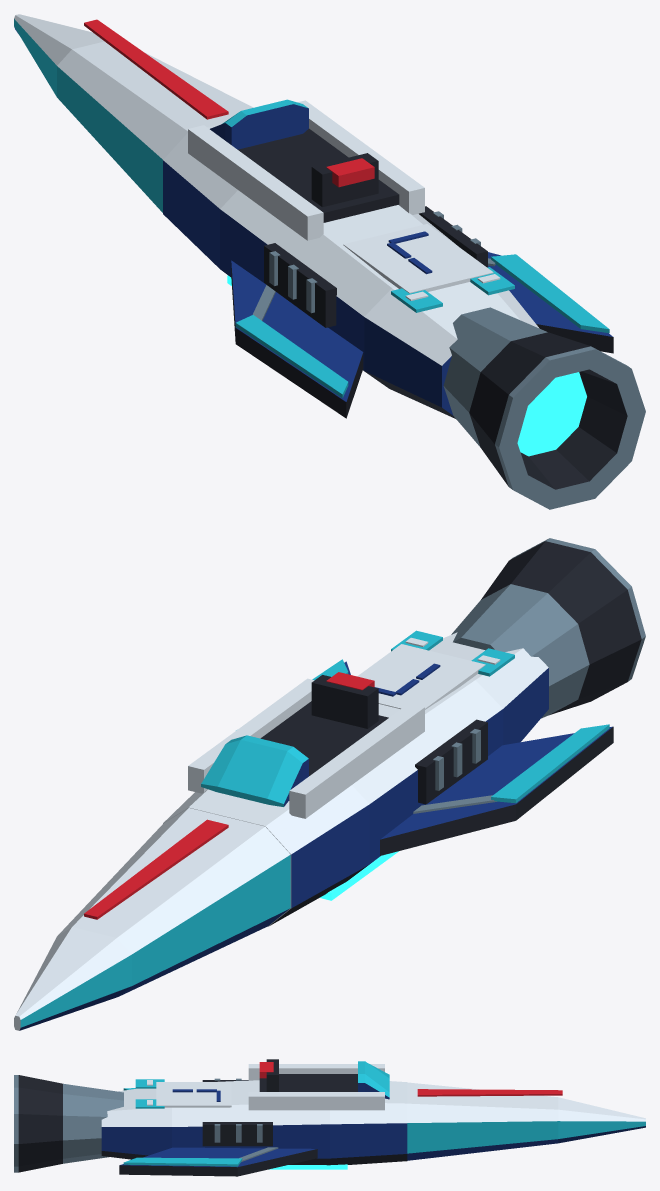
File: hull-kitsune-c0f37e6b.glb
The picture shows the model from 3 angles, top to bottom: view 1: azimuth 30°, elevation 25°; view 2: azimuth 150°, elevation 25°; view 3: azimuth 270°, elevation 25°; orthographic projection. The views are drawn at different scales.
Parts seen in each view (by area): view 1: hull-kitsune_body, engine_rear_single, nose_forward; view 2: hull-kitsune_body, nose_forward, engine_rear_single; view 3: hull-kitsune_body, nose_forward, engine_rear_single.
Boxes of the visible parts, x1,y1,x2,y2 form: hull-kitsune_body: [84, 19, 613, 418]; engine_rear_single: [443, 307, 645, 509]; nose_forward: [14, 14, 253, 212]; hull-kitsune_body: [84, 630, 613, 926]; nose_forward: [14, 808, 290, 1030]; engine_rear_single: [451, 538, 645, 718]; hull-kitsune_body: [101, 1059, 562, 1176]; nose_forward: [407, 1082, 645, 1160]; engine_rear_single: [14, 1075, 123, 1172].
Size of the model in its own units: 2.1 by 1.25 by 7.2.
